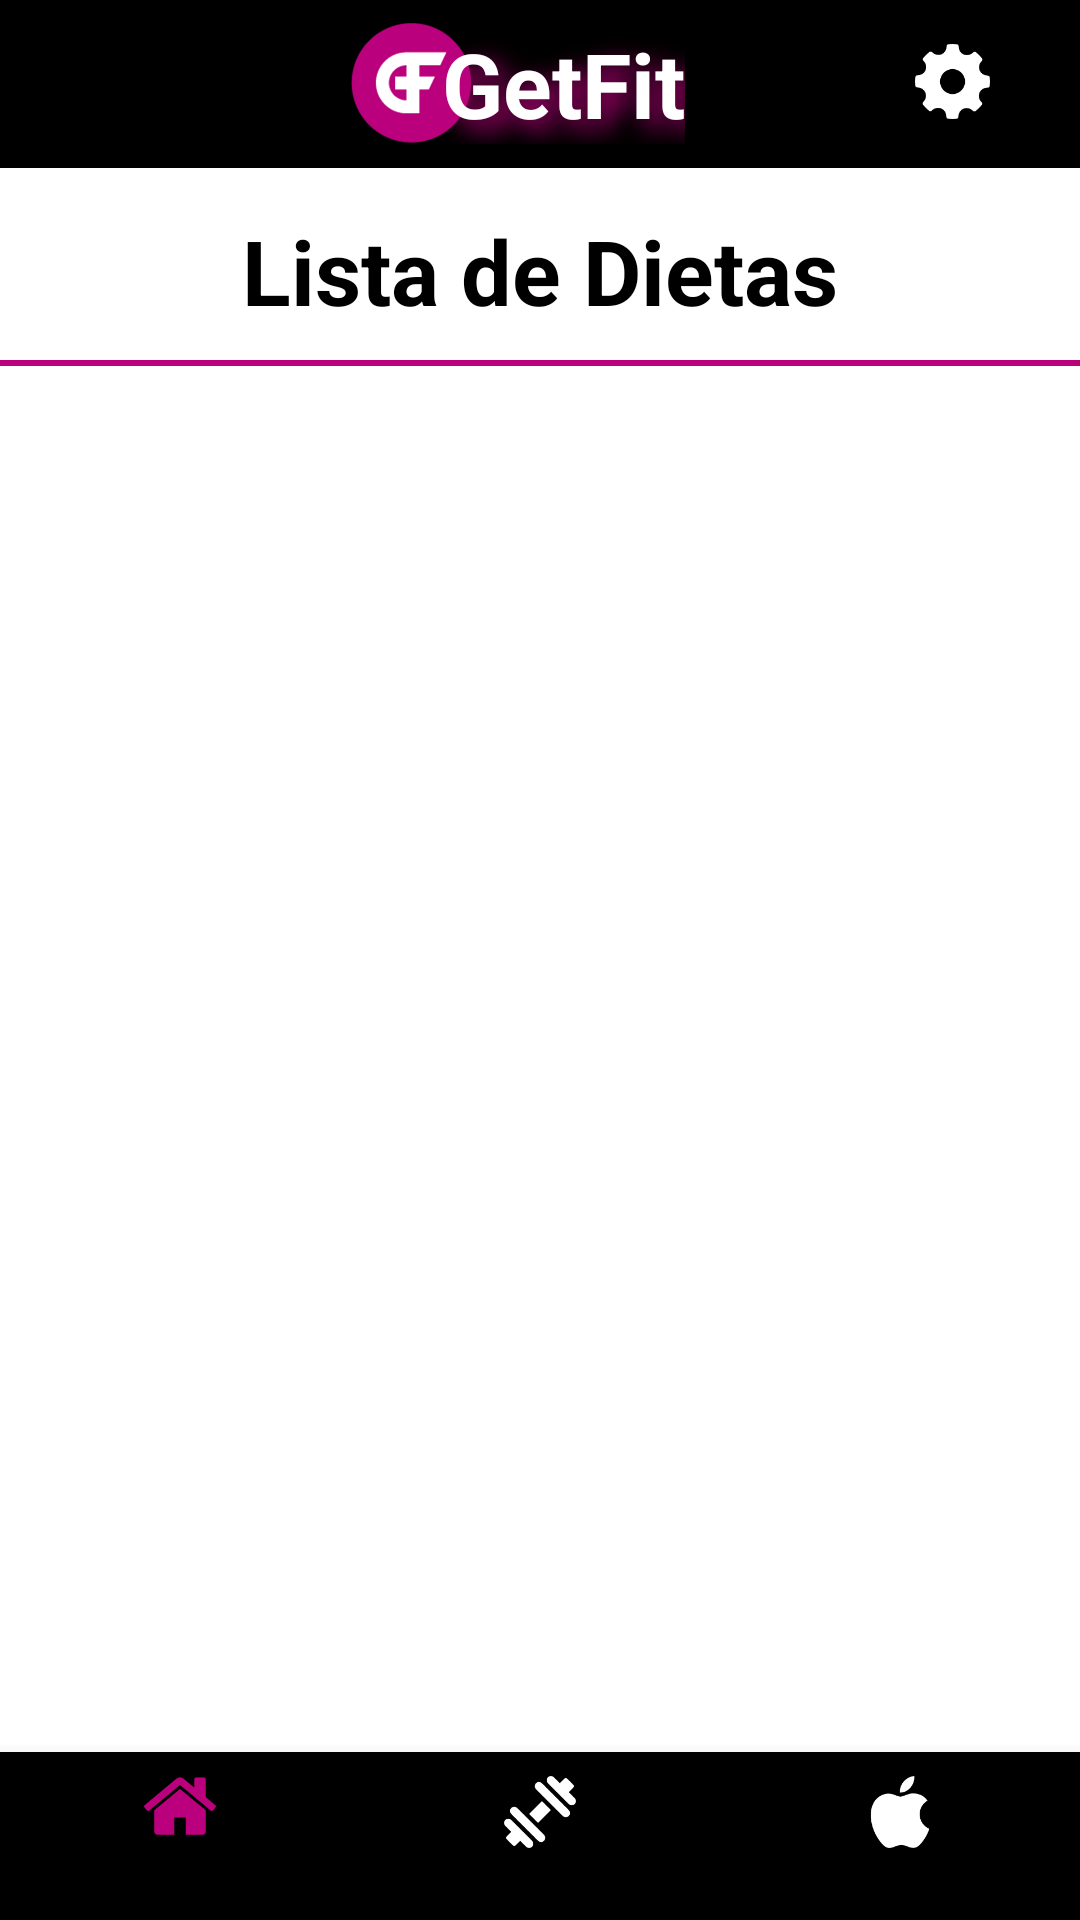

Screen size 1080x1920. Icon name, then its box in pixels as [x1=x1, y1=y1, x2=x2, y2=y2]:
ajustes: [x1=915, y1=44, x2=990, y2=119]
